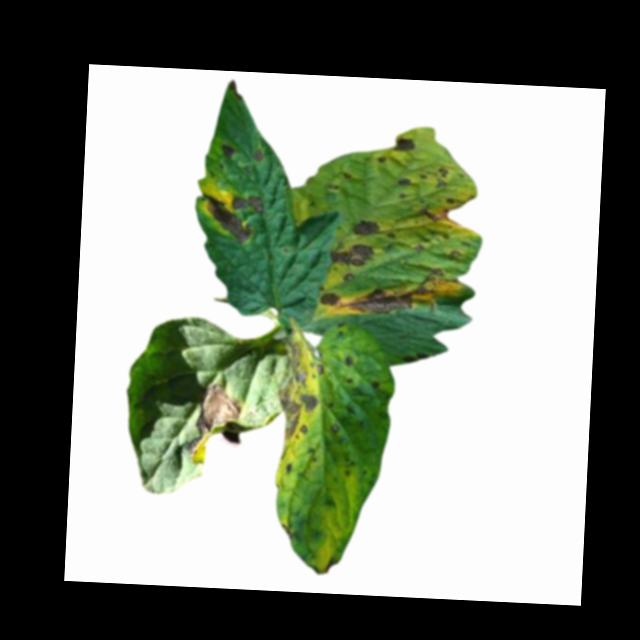Early_blight: (184, 380, 243, 466), (275, 334, 319, 444), (344, 278, 433, 317), (204, 193, 250, 242), (331, 240, 374, 268), (230, 190, 265, 215), (351, 216, 383, 238), (419, 204, 455, 222), (309, 554, 338, 573), (320, 289, 342, 308), (435, 164, 452, 188), (392, 136, 415, 151), (221, 141, 237, 158), (341, 349, 354, 366), (252, 144, 264, 162), (400, 173, 413, 185)
